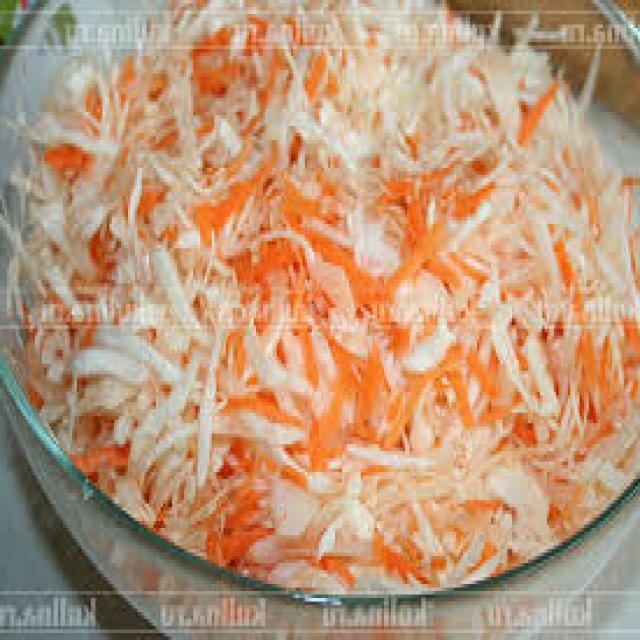beef: (389, 210, 610, 559), (282, 0, 609, 219), (30, 49, 205, 234), (97, 247, 226, 493), (253, 452, 384, 592)
garlic: (306, 226, 382, 316), (562, 324, 638, 404), (356, 164, 493, 208), (182, 167, 260, 243), (322, 346, 382, 436), (224, 218, 299, 289), (189, 30, 240, 116), (214, 478, 265, 560), (436, 340, 481, 428), (396, 215, 454, 283), (206, 8, 276, 64), (30, 129, 94, 184), (514, 75, 557, 149), (293, 40, 334, 102), (243, 140, 279, 192)
